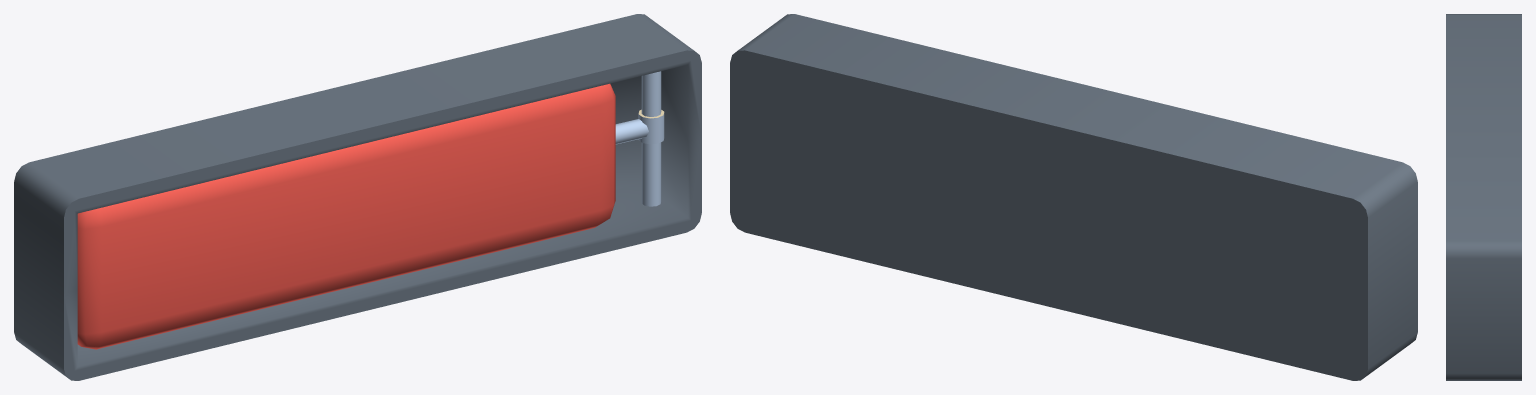
Rendered from LongWall.fbx.
The picture shows the model from 3 angles, left to right: view 1: azimuth 30°, elevation 25°; view 2: azimuth 150°, elevation 25°; view 3: azimuth 270°, elevation 25°; orthographic projection. The views are drawn at different scales.
Visible parts, largest first — view 1: Wall.001, Wall_Frame.001; view 2: Wall_Frame.001; view 3: Wall_Frame.001.
Part boxes in pixels (left/top/right/bottom): Wall.001: left=77, top=71, right=664, bottom=349; Wall_Frame.001: left=14, top=14, right=701, bottom=380; Wall_Frame.001: left=730, top=14, right=1417, bottom=380; Wall_Frame.001: left=1446, top=14, right=1521, bottom=380.
Bounding box in the file's own units: 733 × 200 × 99.05.
